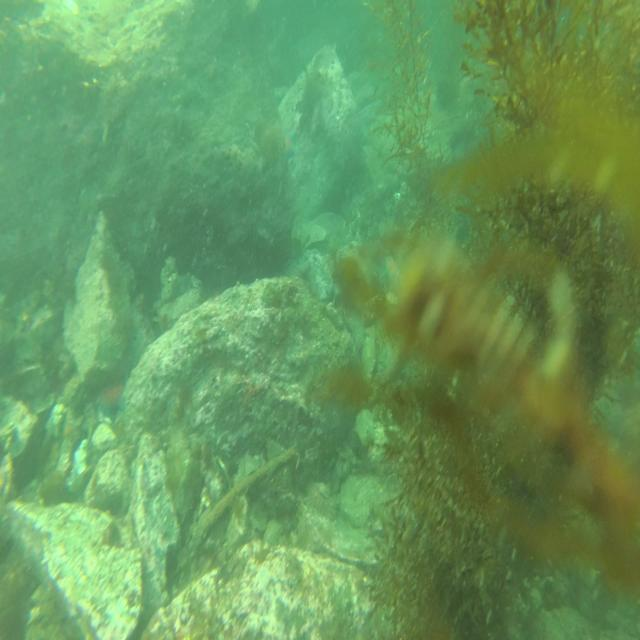starfish: (93, 370, 129, 417), (382, 249, 404, 298), (279, 121, 297, 159)
